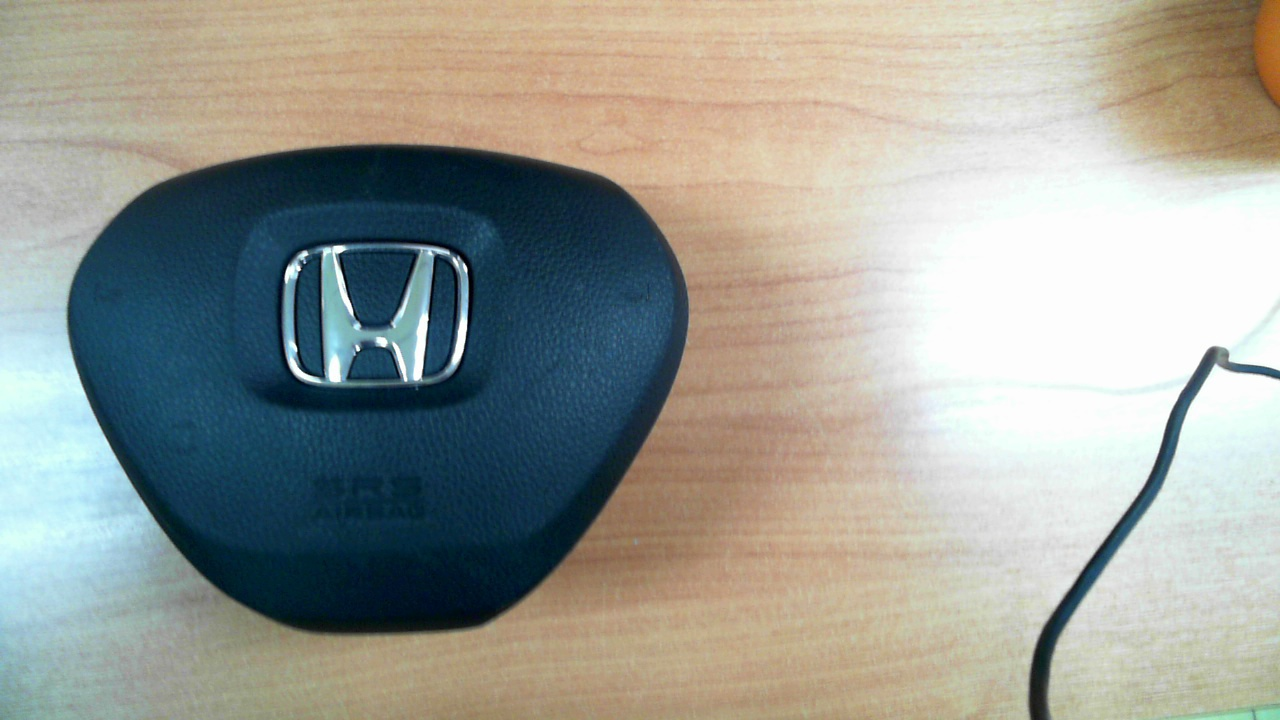Airbag: (66, 144, 689, 636)
Honda: (276, 236, 474, 391)
